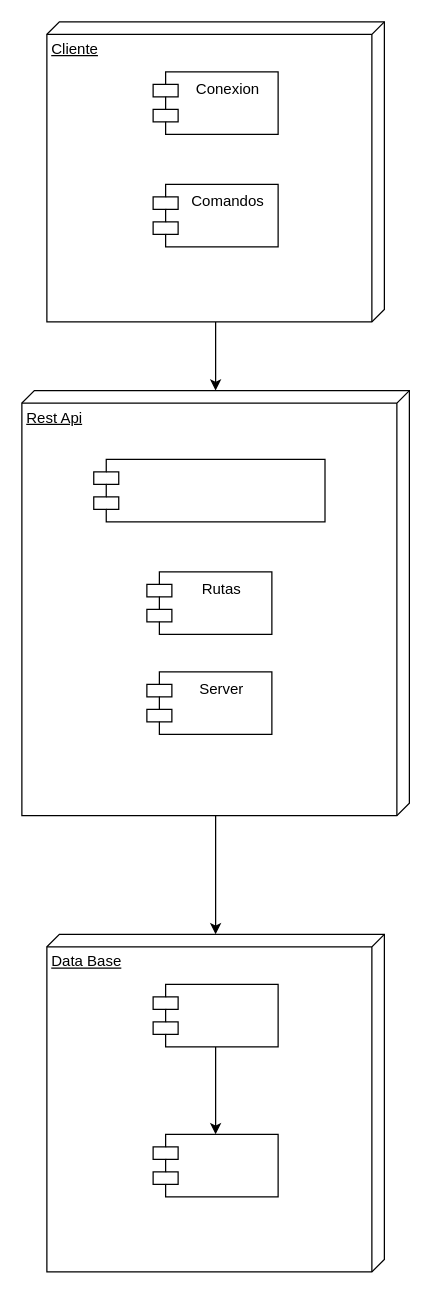
Image size: 431x1294. Some labels were removed from this diagram. The centre of each missing label's shape, as x and y in pixels:
"Archivos" belongs at point (215, 1165).
"Codificacion/Decodificacion" belongs at point (208, 490).
"Repositorios" belongs at point (215, 1015).
